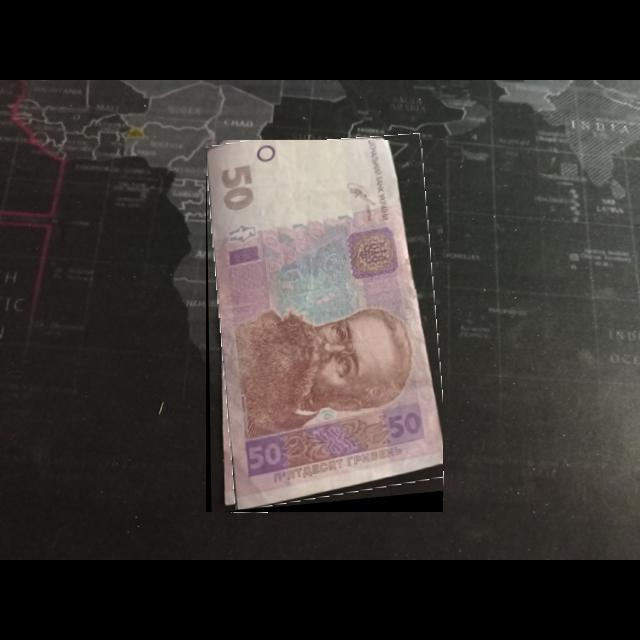50uah: (207, 140, 444, 512)
